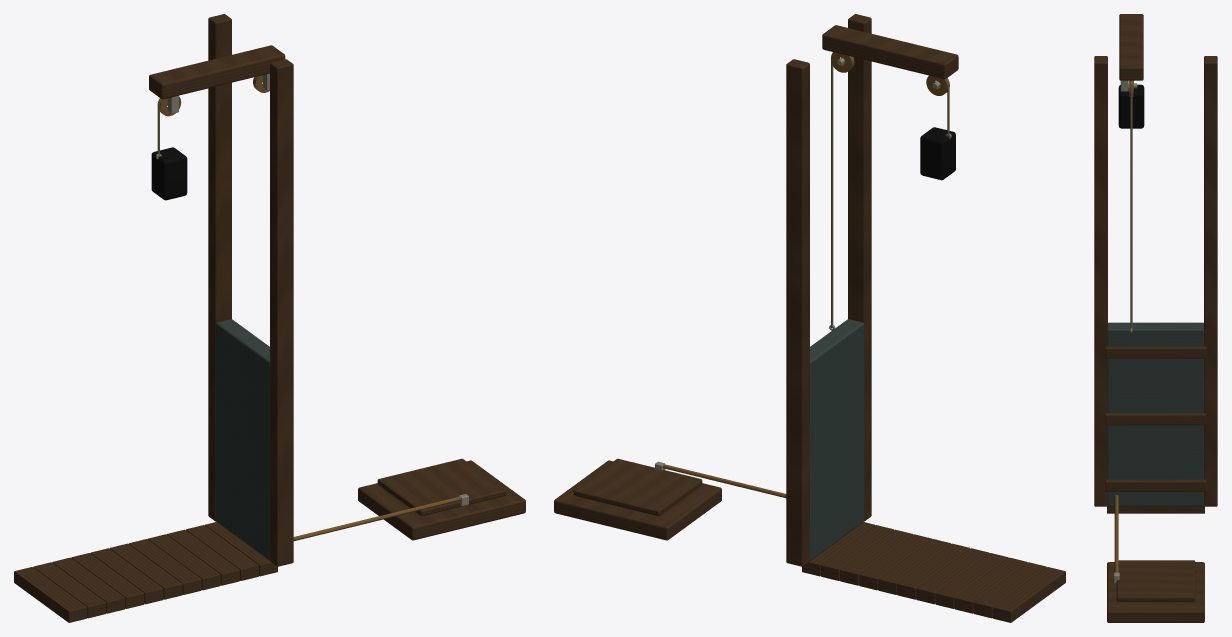
File: E05_CounterweightGate.fbx
3 renders of one model, left to right at view 1: azimuth 30°, elevation 25°; view 2: azimuth 150°, elevation 25°; view 3: azimuth 270°, elevation 25°, orthographic. The views are drawn at different scales.
Parts seen in each view (by area): view 1: Frame_Mesh, LinkedWalkway_Mesh, GateLift_Mesh, PlatePivot_Mesh, Counterweight_Mesh, LinkagePivot_Mesh; view 2: Frame_Mesh, LinkedWalkway_Mesh, GateLift_Mesh, PlatePivot_Mesh, Counterweight_Mesh, CableMesh; view 3: GateLift_Mesh, Frame_Mesh, PlatePivot_Mesh, Counterweight_Mesh, LinkedWalkway_Mesh, CableMesh, LinkagePivot_Mesh.
Part boxes in pixels (x1,y1,x2,y2): Frame_Mesh: [149, 14, 525, 566]; LinkedWalkway_Mesh: [14, 522, 277, 622]; GateLift_Mesh: [215, 319, 269, 560]; PlatePivot_Mesh: [377, 458, 506, 516]; Counterweight_Mesh: [151, 147, 187, 200]; LinkagePivot_Mesh: [293, 496, 461, 540]; Frame_Mesh: [554, 14, 958, 566]; LinkedWalkway_Mesh: [802, 522, 1065, 622]; GateLift_Mesh: [810, 319, 864, 560]; PlatePivot_Mesh: [573, 458, 702, 516]; Counterweight_Mesh: [920, 127, 955, 180]; CableMesh: [831, 52, 949, 327]; GateLift_Mesh: [1105, 322, 1206, 506]; Frame_Mesh: [1094, 14, 1217, 622]; PlatePivot_Mesh: [1114, 560, 1195, 601]; Counterweight_Mesh: [1118, 84, 1144, 128]; LinkedWalkway_Mesh: [1107, 506, 1204, 513]; CableMesh: [1130, 80, 1132, 329]; LinkagePivot_Mesh: [1114, 495, 1118, 572].
Bounding box in the file's own units: 0.4797 × 0.514 × 0.126.
